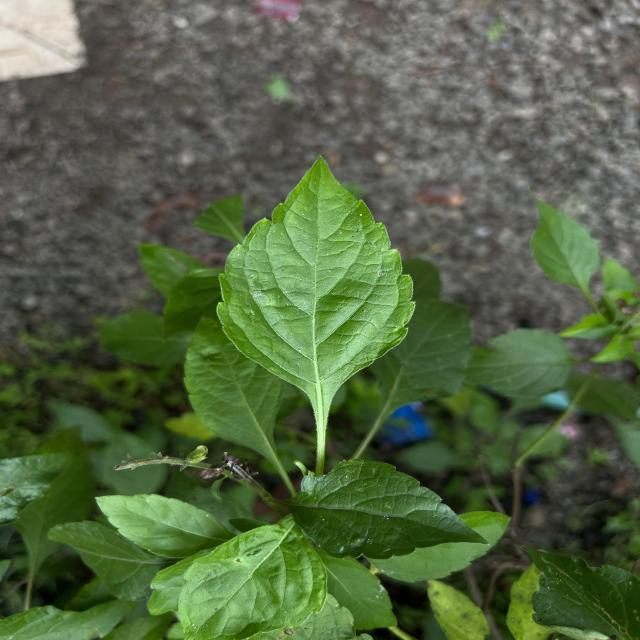Ocimum gratissimum: (210, 152, 422, 430), (276, 455, 494, 564), (174, 515, 332, 640)
